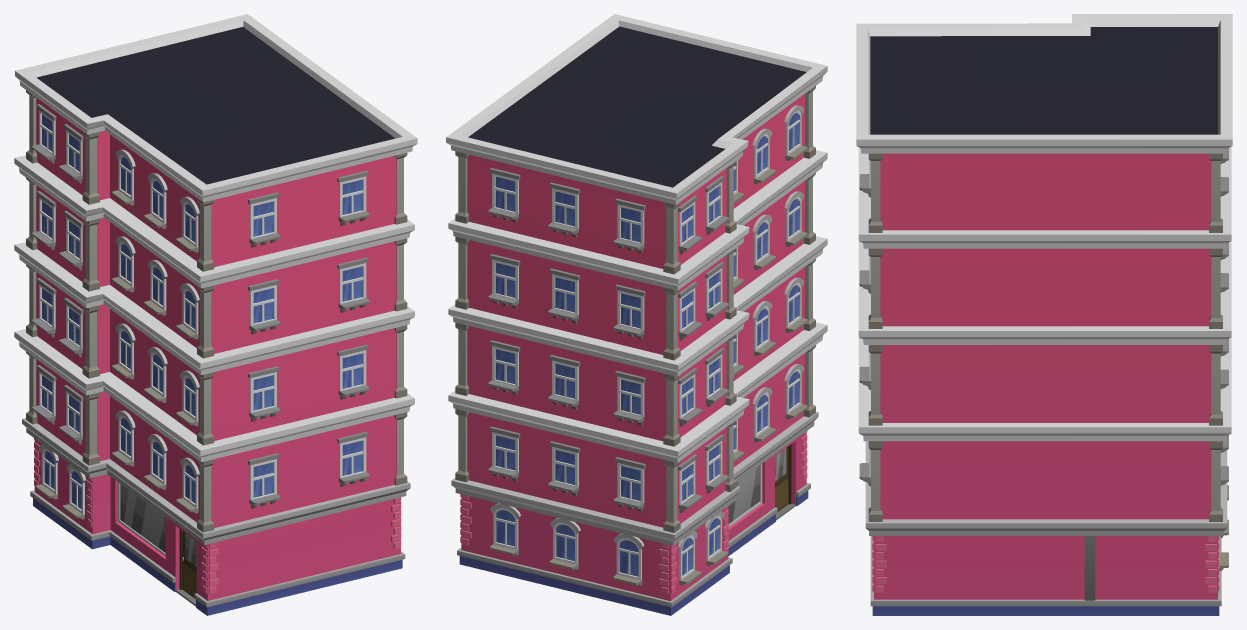
The model's file is Building_1_5_C.glb.
The picture shows the model from 3 angles, left to right: view 1: azimuth 30°, elevation 25°; view 2: azimuth 150°, elevation 25°; view 3: azimuth 270°, elevation 25°; orthographic projection. The views are drawn at different scales.
Visible parts, largest first — view 1: Building_1_5_C; view 2: Building_1_5_C; view 3: Building_1_5_C.
Part boxes in pixels (x1,y1,x2,y2): Building_1_5_C: (14,14,417,615); Building_1_5_C: (446,14,827,615); Building_1_5_C: (856,14,1232,615).
Size of the model in its own units: 8.47 by 15.01 by 10.67.
Materials: 3 (3 with a texture image).
